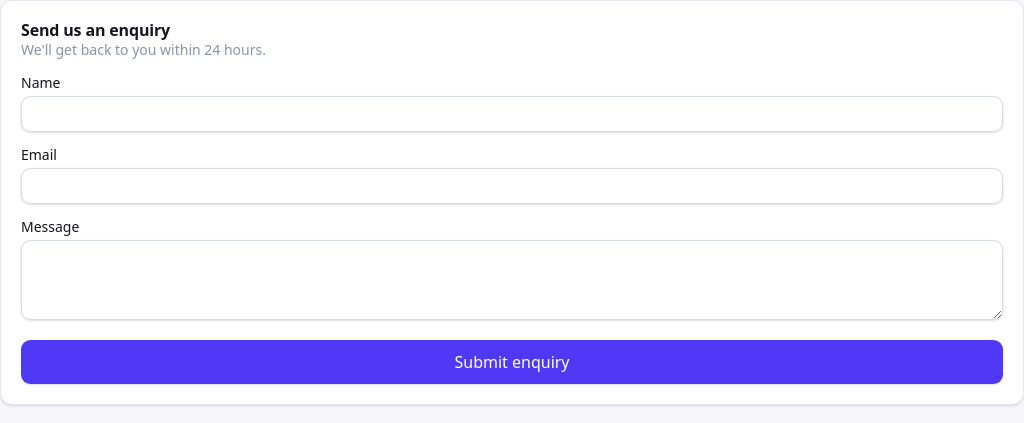
Test case: EnquiryForm › disables the submit button while the request is in flight
Type "Jane" into the field labelled "Name" at [512, 114], box x1=21 y1=96 x2=1003 y2=132
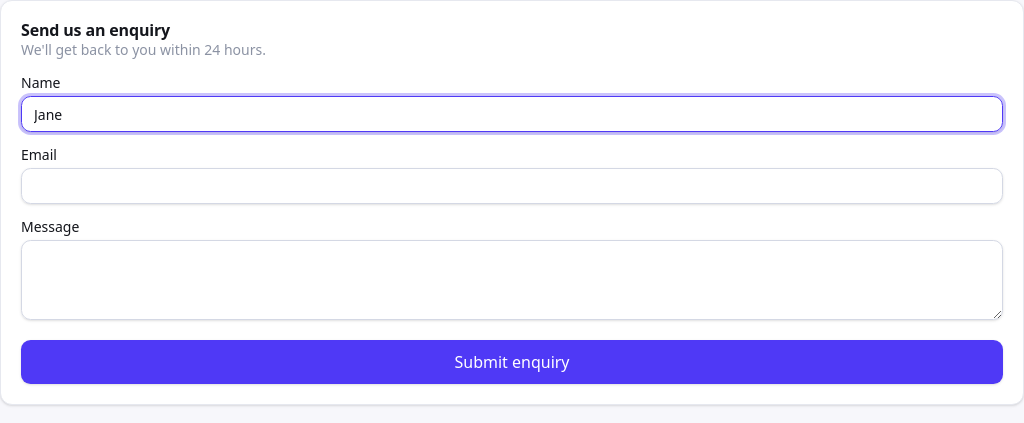
Type "jane@example.com" into the field labelled "Email" at [512, 186], box x1=21 y1=168 x2=1003 y2=204
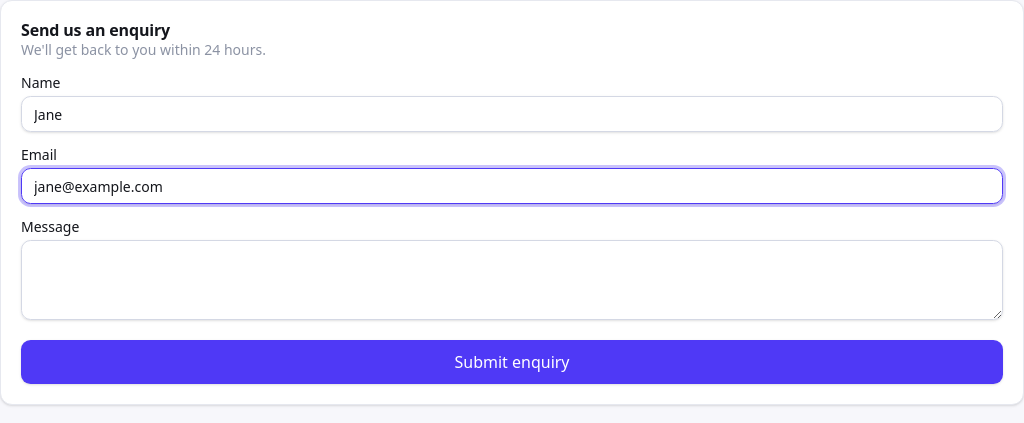
Type "Interested in this!" into the text box labelled "Message" at [512, 280], box x1=21 y1=240 x2=1003 y2=320
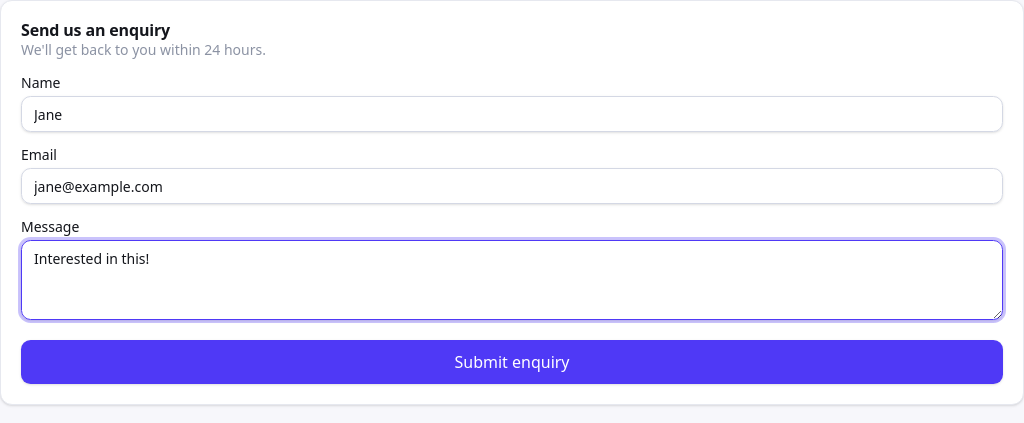
Click the button "Submit enquiry" at [512, 362], box x1=21 y1=340 x2=1003 y2=384
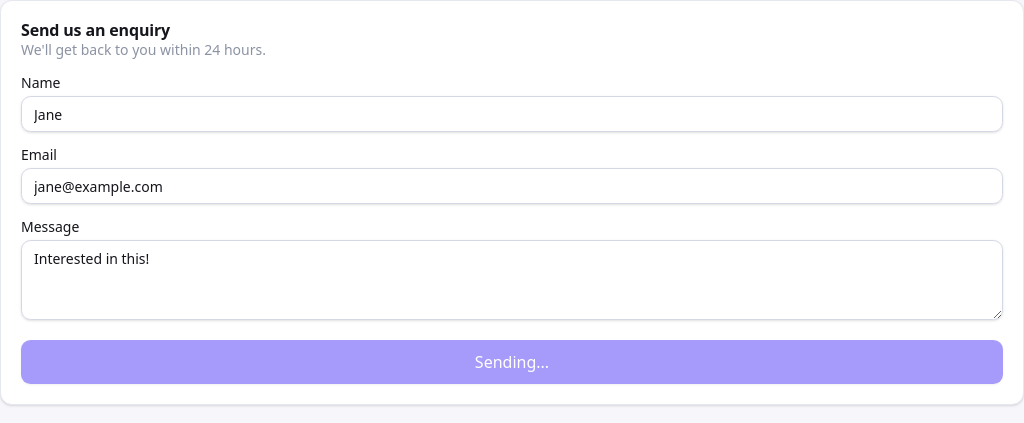
Expected: the button named "submit enquiry" is disabled, x1=21 y1=340 x2=1003 y2=384
